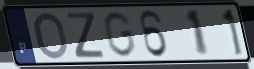1: (185, 8, 211, 59), (220, 8, 245, 58)
6: (138, 8, 170, 59)
G: (101, 9, 137, 59)
O: (33, 11, 71, 61)
Z: (65, 11, 106, 60)
